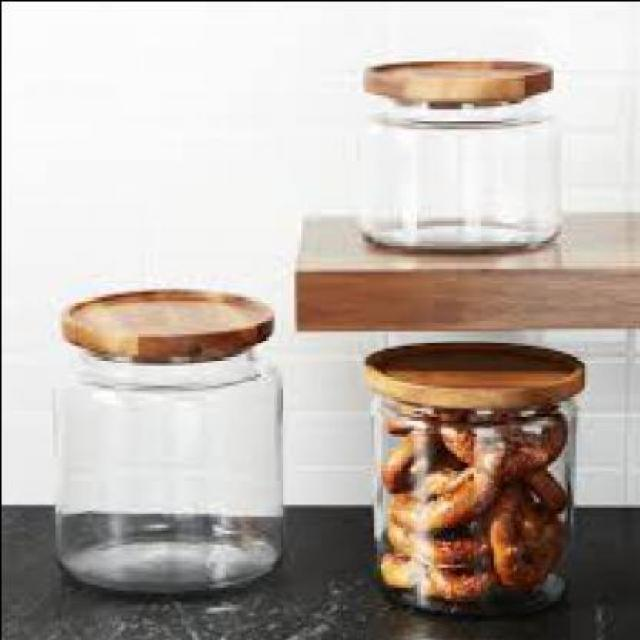BIODEGRADABLE: (489, 475, 557, 583), (438, 412, 558, 470), (387, 466, 491, 523), (376, 429, 432, 483), (420, 560, 494, 600), (415, 526, 483, 557), (379, 518, 423, 554), (379, 552, 423, 583), (378, 405, 432, 429)
GLASS: (51, 344, 282, 588), (366, 389, 569, 609), (355, 91, 563, 251)
